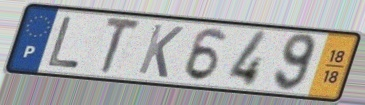4: (224, 29, 270, 91)
6: (181, 27, 228, 83)
9: (270, 31, 317, 95)
K: (135, 22, 186, 81)
L: (44, 15, 83, 71)
T: (99, 15, 144, 77)
